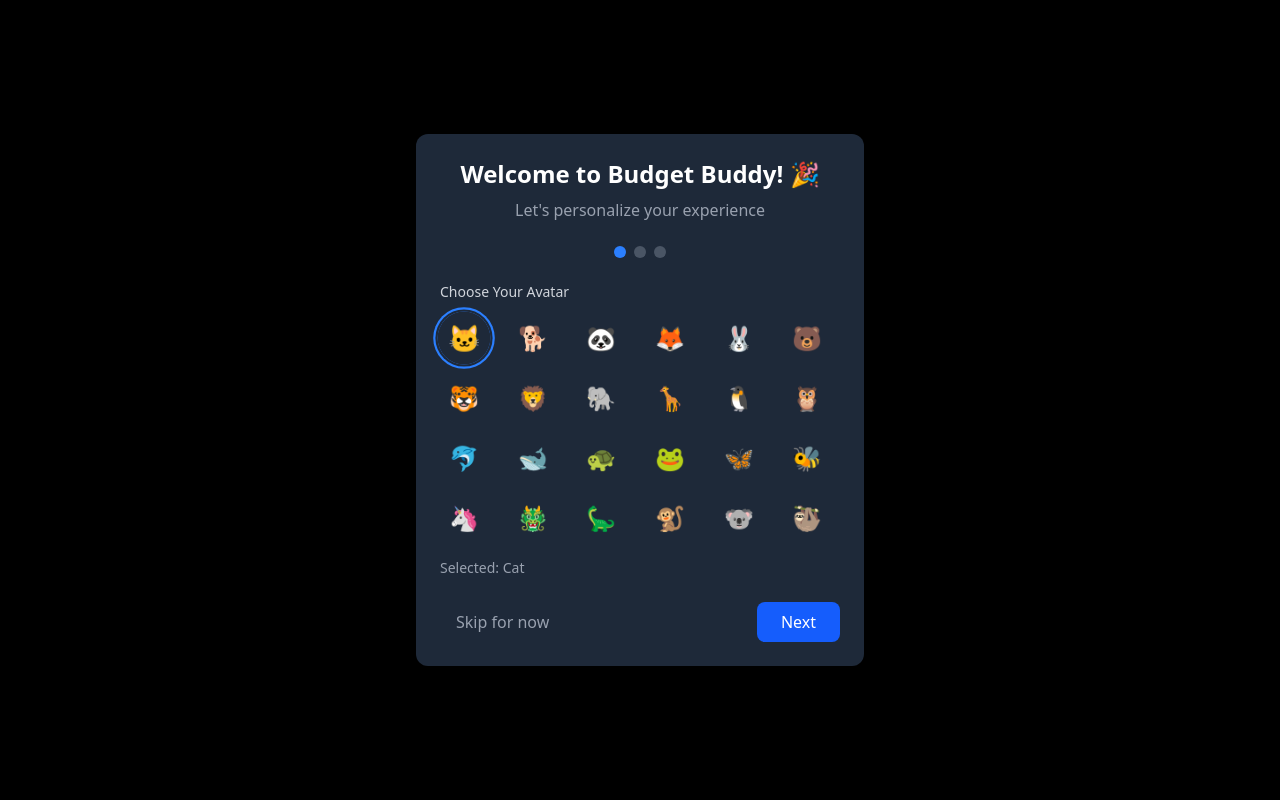
Test: WelcomeModal › navigates to step 3 when Next is clicked from step 2
The width and height of the screenshot is (1280, 800).
Click the button "Next".
click(798, 622)  # box [757, 602, 840, 642]
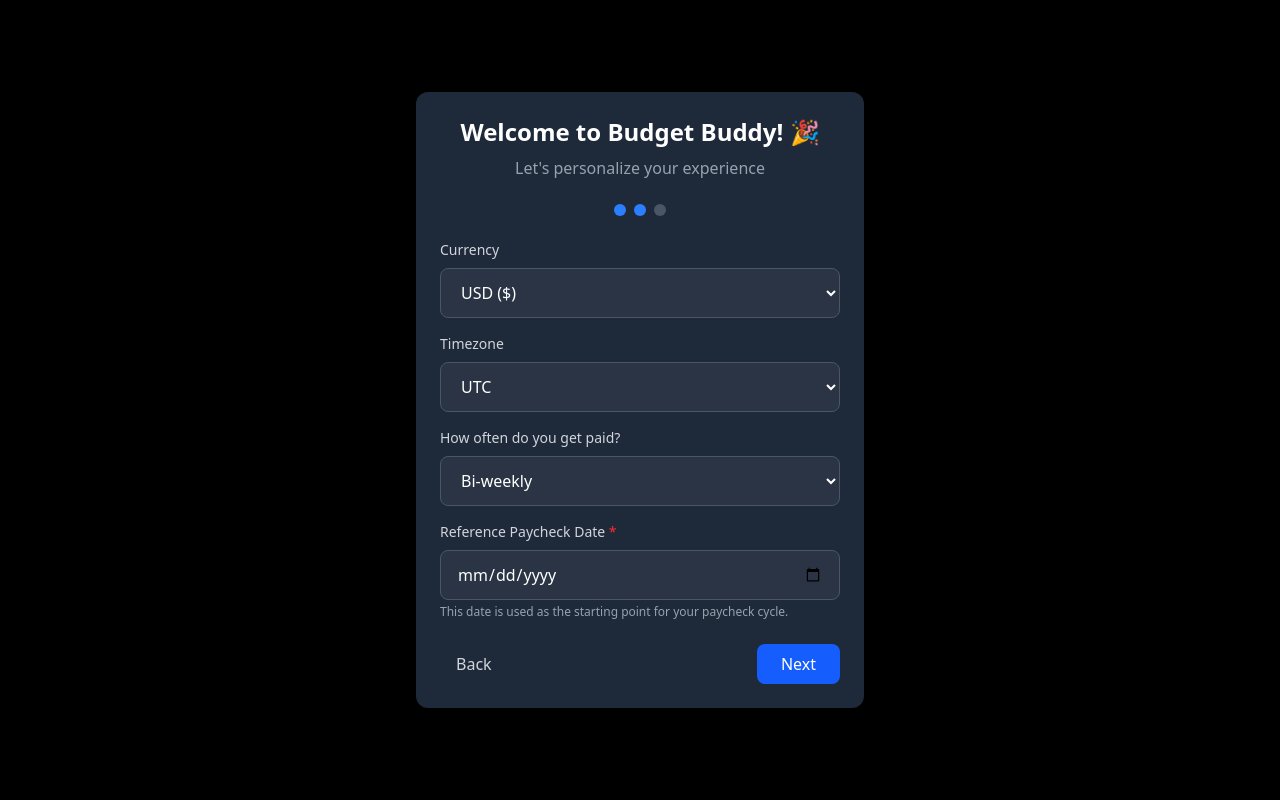
Click the button "Next".
click(798, 664)  # box [757, 644, 840, 684]
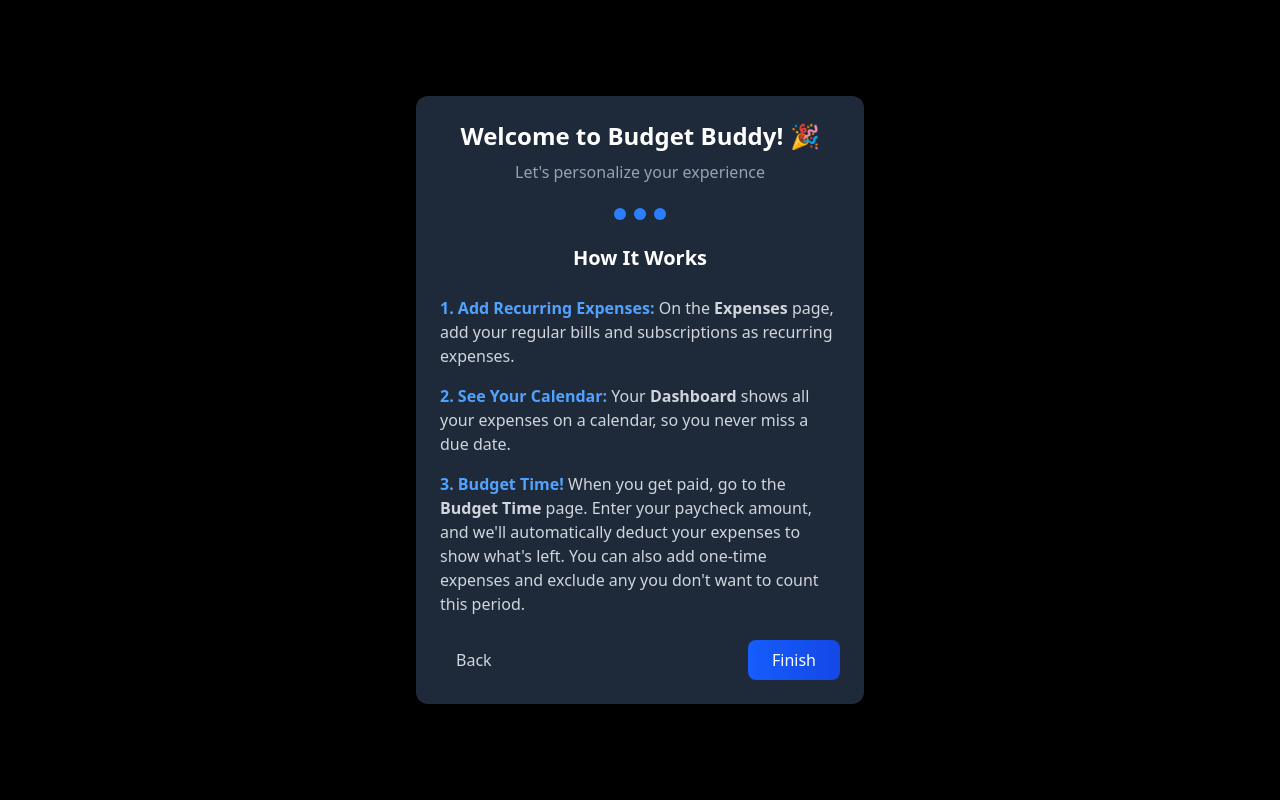
Expected: the heading "How It Works" is shown, [573, 244, 707, 271]
Expected: the text "1. Add Recurring Expenses:" is shown, [440, 297, 654, 319]
Expected: the text "2. See Your Calendar:" is shown, [440, 385, 607, 407]
